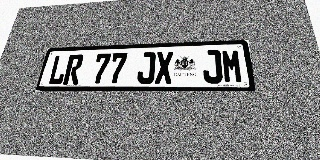7: (107, 53, 128, 84), (91, 53, 111, 84)
J: (202, 50, 223, 83), (136, 52, 156, 84)
L: (47, 55, 69, 85)
M: (221, 49, 244, 83)
R: (63, 54, 84, 85)
X: (155, 51, 173, 84)
